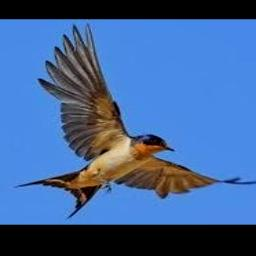Swallow: (12, 23, 256, 220)
